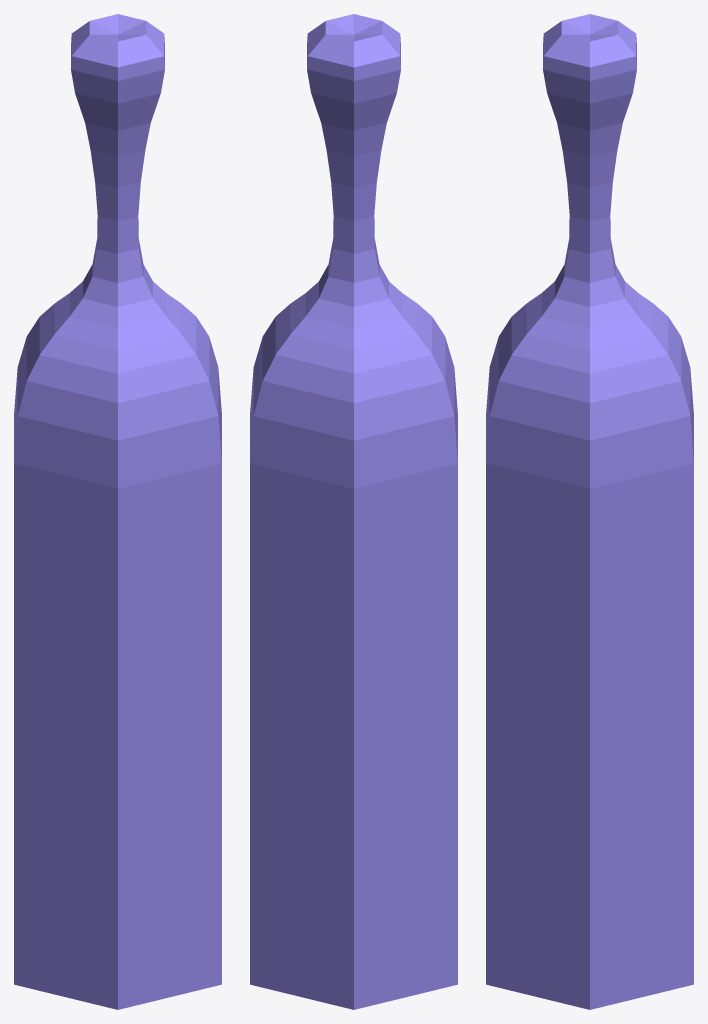
Rendered from bottle.obj.
3 views of the same model, side by side, from view 1: azimuth 30°, elevation 25°; view 2: azimuth 150°, elevation 25°; view 3: azimuth 270°, elevation 25° (orthographic).
Parts seen in each view (by area): view 1: Line01; view 2: Line01; view 3: Line01.
Part boxes in pixels (x1=…): Line01: x1=14, y1=14, x2=221, y2=1009; Line01: x1=250, y1=14, x2=457, y2=1009; Line01: x1=486, y1=14, x2=693, y2=1009.
Size of the model in its own units: 0.5451 by 2.34 by 0.472.
